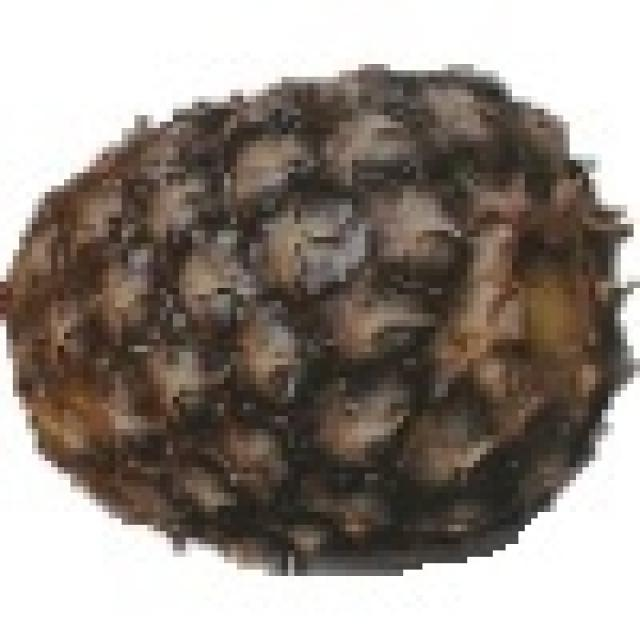pineapple: (0, 58, 614, 557)
